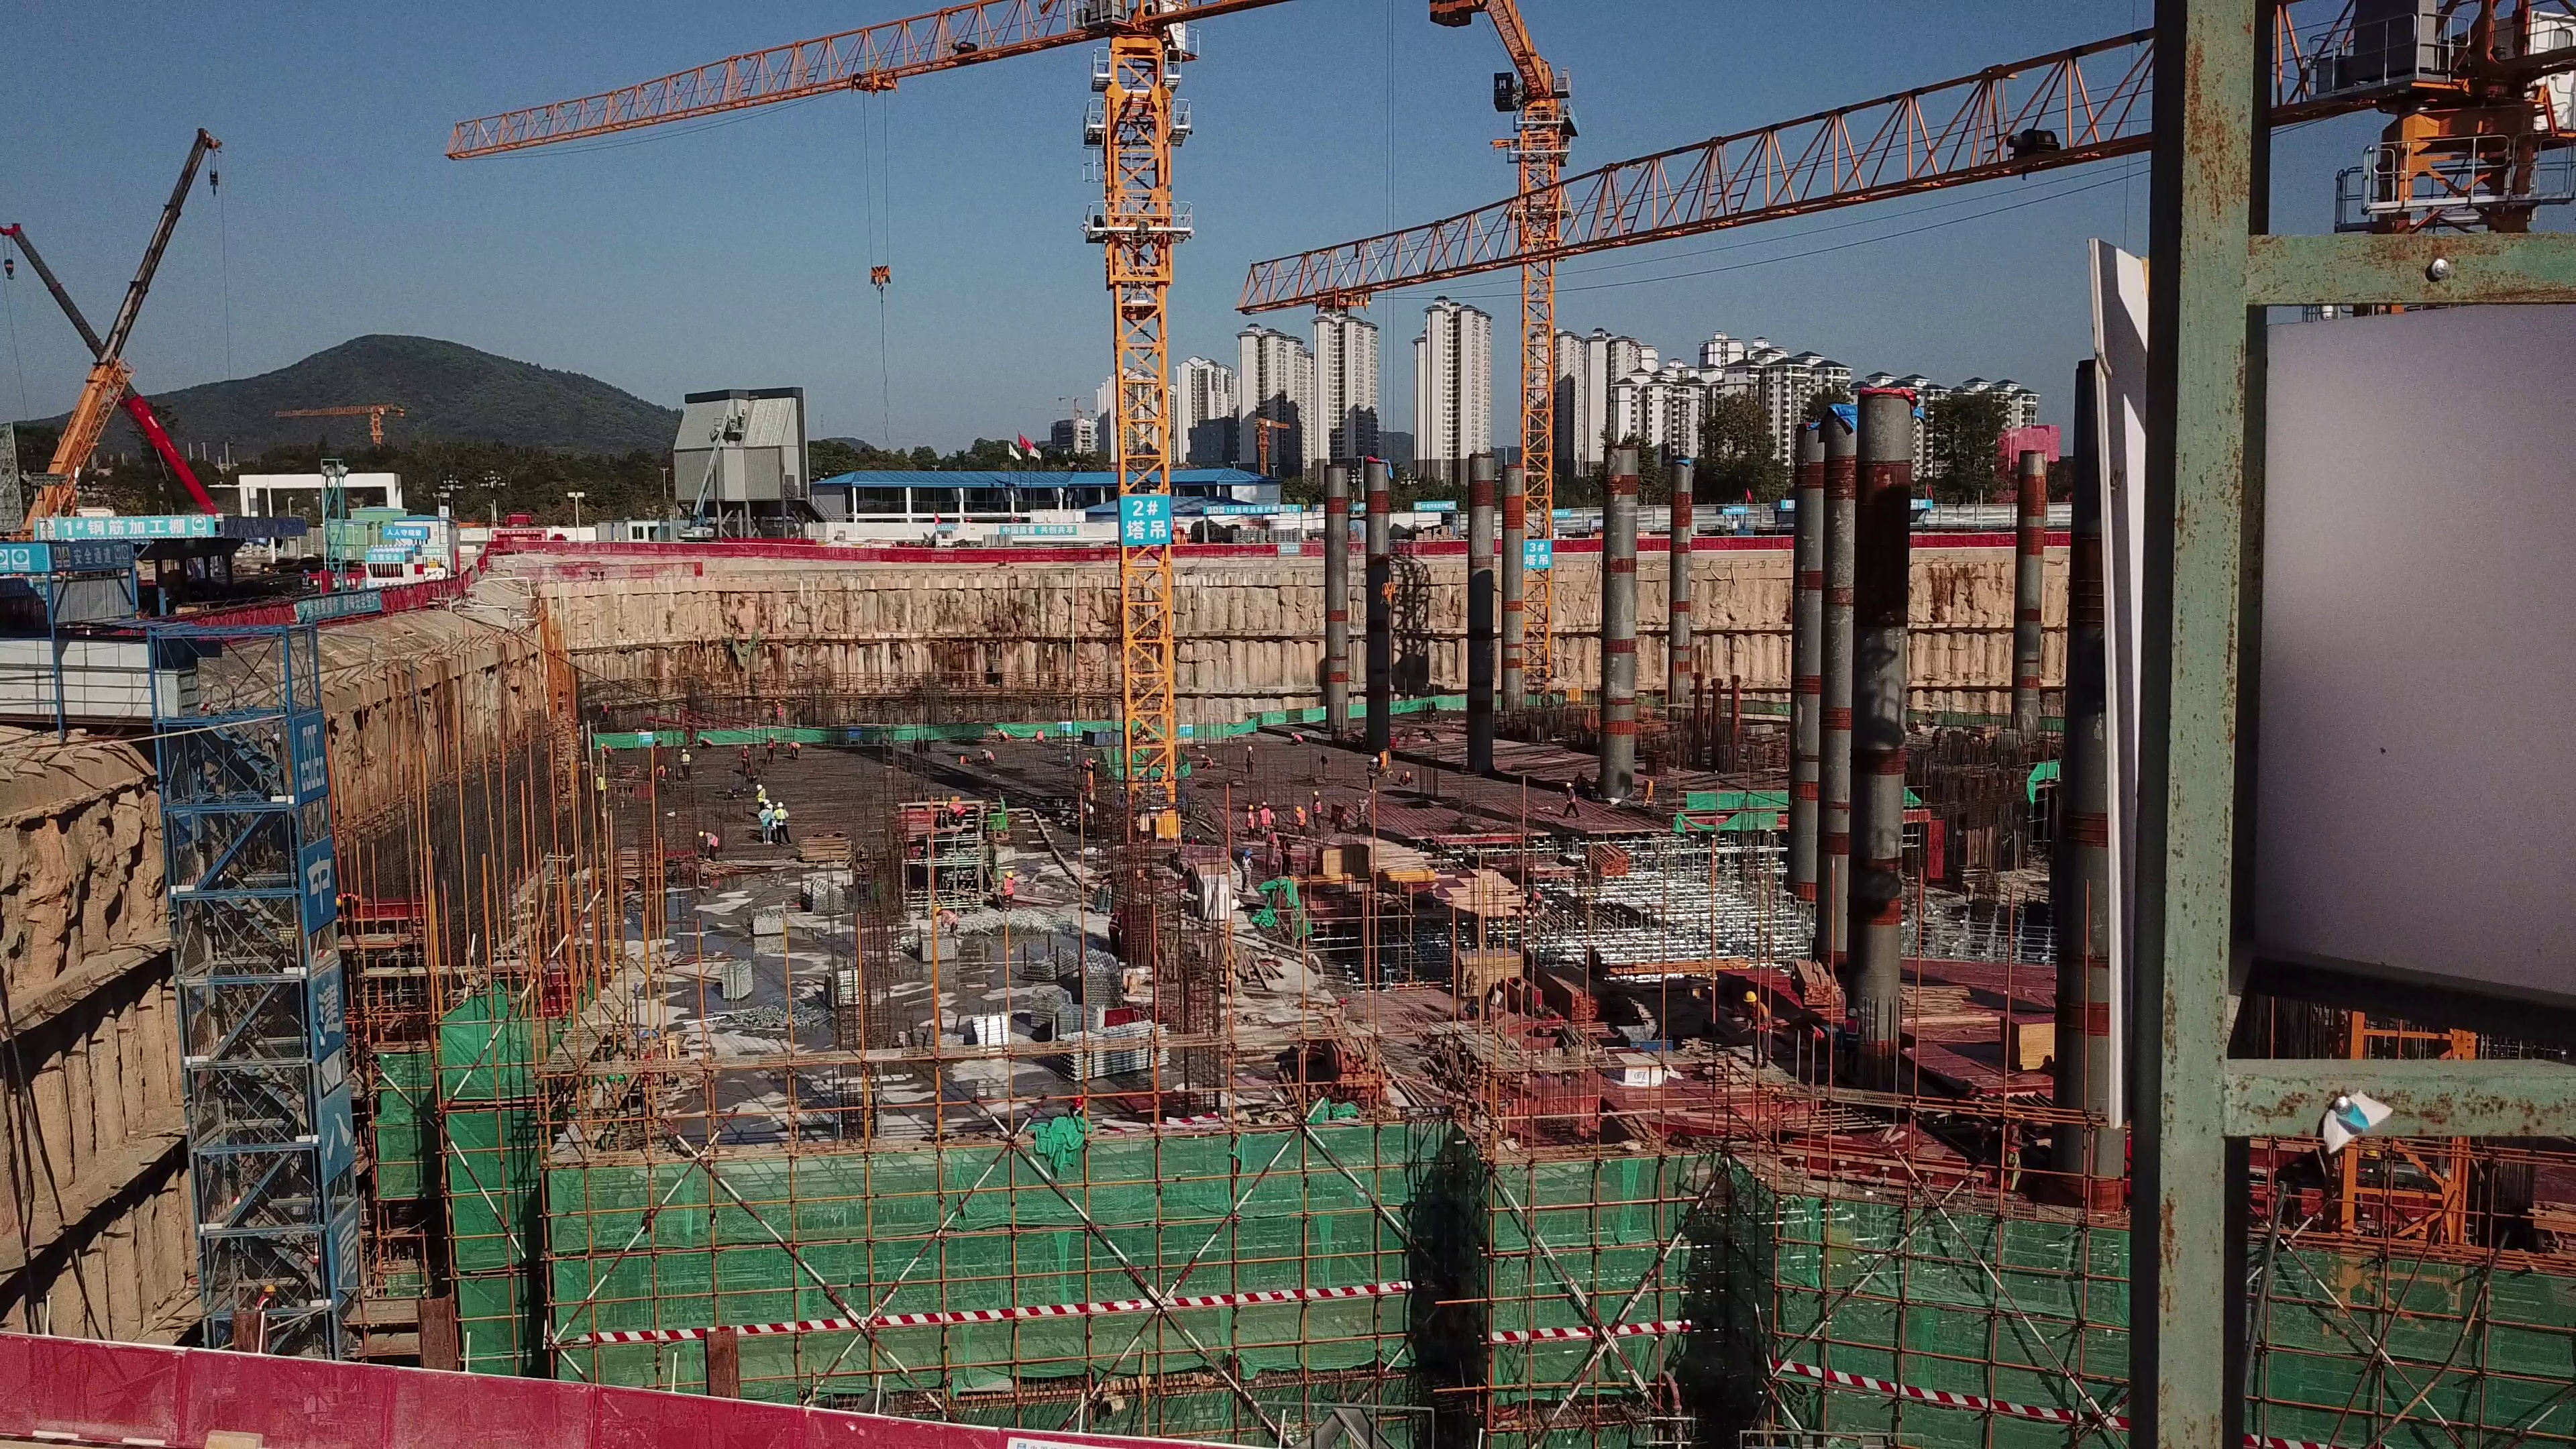board: (1450, 946, 1522, 1002), (1995, 1006, 2054, 1072), (1319, 845, 1376, 881)
helmet: (1741, 987, 1758, 1004), (761, 803, 786, 810), (1004, 866, 1014, 879), (699, 827, 705, 839), (755, 783, 763, 789)
hook: (865, 252, 898, 299)
person: (1742, 982, 1776, 1073), (749, 778, 790, 847), (2001, 1110, 2027, 1197), (1244, 794, 1273, 843), (696, 825, 724, 859), (1562, 779, 1581, 826), (932, 904, 960, 930), (1000, 869, 1016, 910), (1293, 800, 1307, 839), (1311, 792, 1323, 831)
scaffold: (1049, 1022, 1177, 1081)
wood: (1578, 843, 1632, 880)
